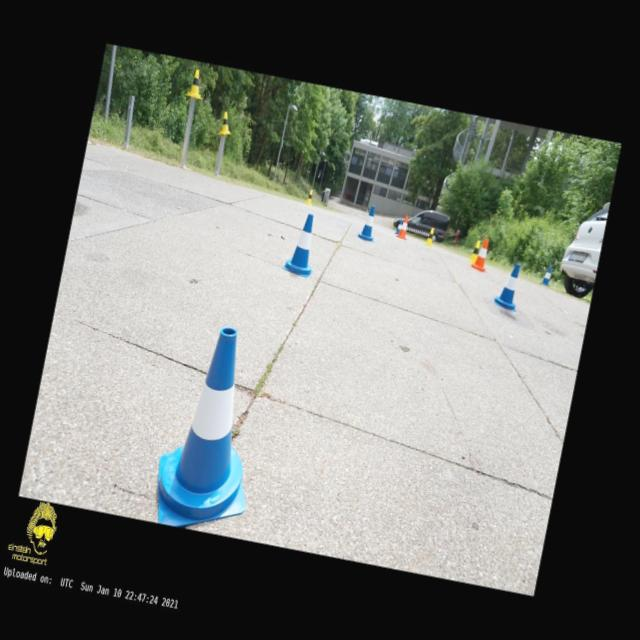blue_cone: (148, 319, 278, 538), (280, 210, 324, 278), (492, 260, 525, 312), (355, 204, 382, 242), (540, 266, 553, 286), (394, 220, 402, 236)
orange_cone: (471, 236, 492, 272), (396, 213, 410, 240)
yellow_cone: (186, 68, 207, 98), (218, 112, 235, 136), (469, 240, 481, 264), (425, 227, 435, 246), (305, 190, 315, 206)
